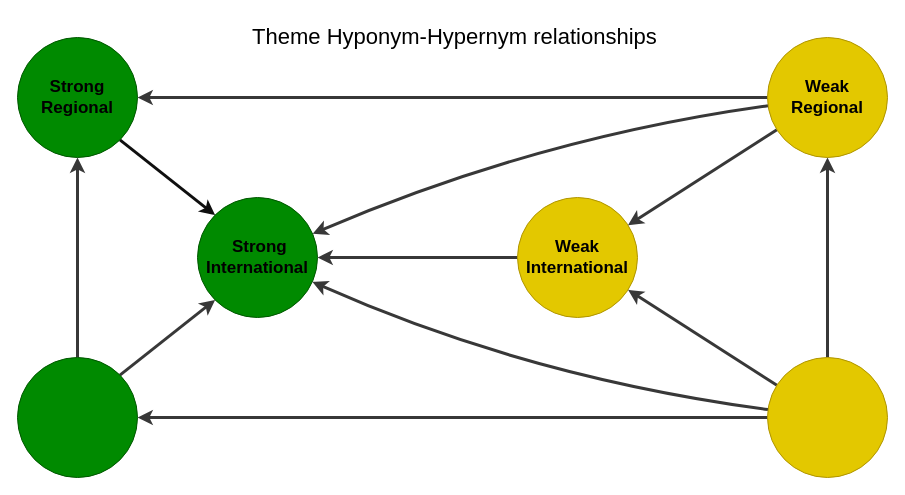
This 905x495 diagram has some shape labels left out. Each missing label, with the centre of its shape:
"Strong Domestic" goes at point (77, 417).
"Weak Domestic" goes at point (827, 417).
